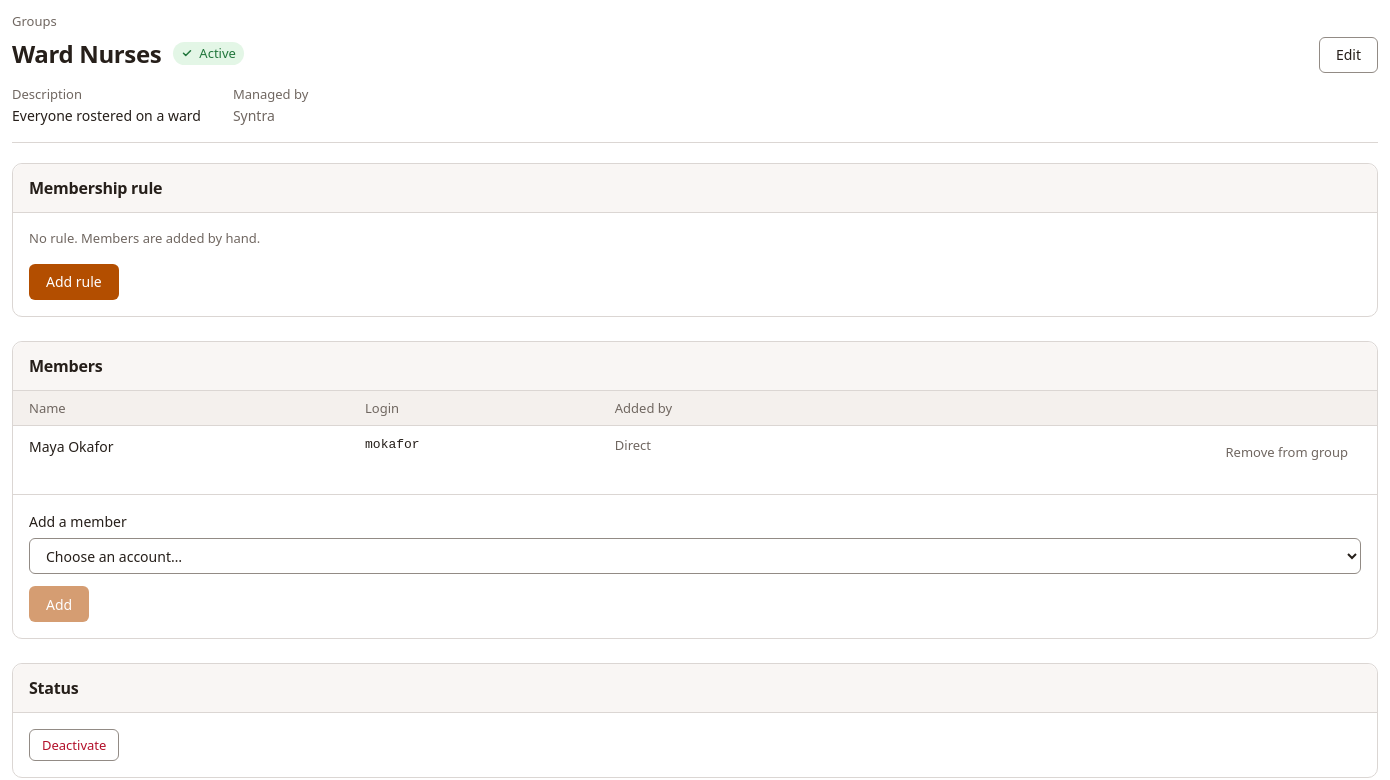
GroupDetailPage › status › says what deactivating the group does to its members
This screenshot has width=1390, height=780.
Click the button "Deactivate": (74, 745) [29,729,119,761]
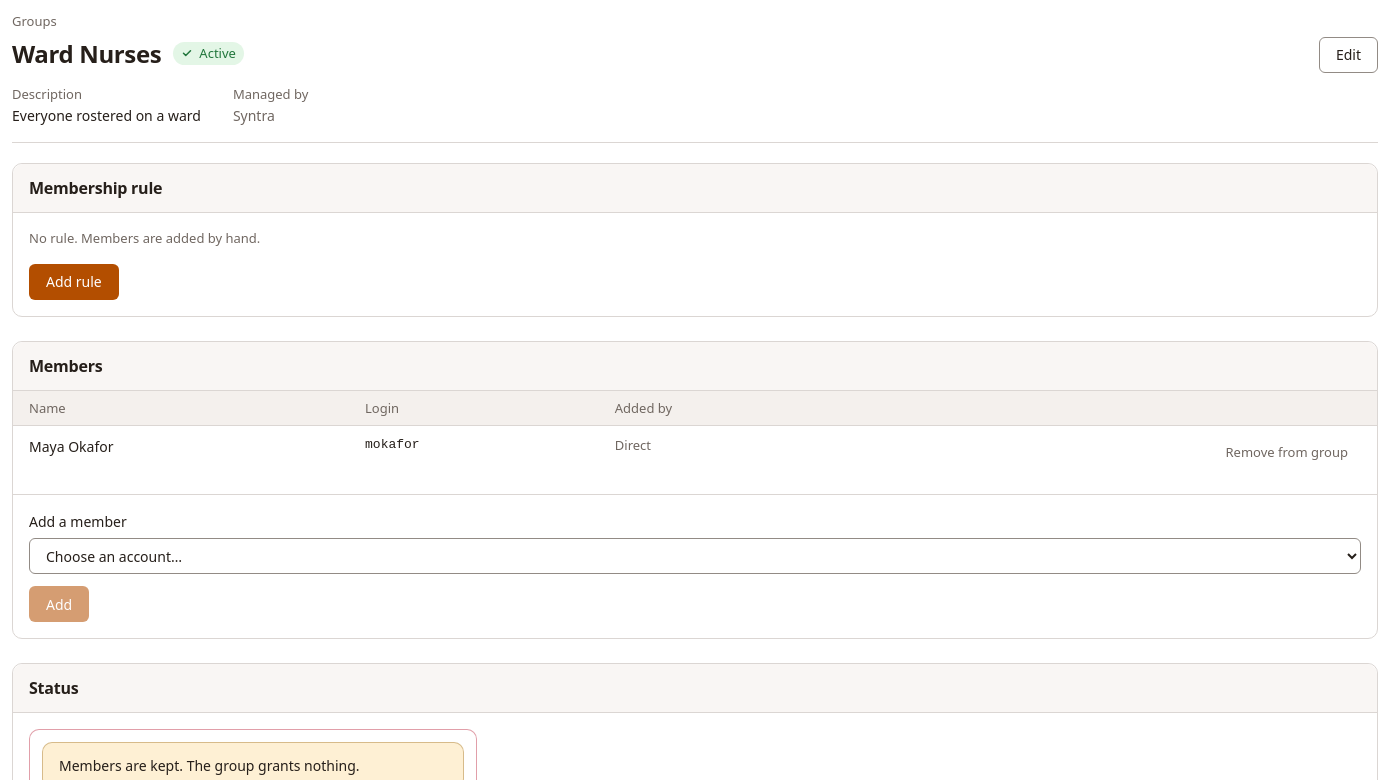
Result: the text "Members are kept. The group grants nothing." is shown at [59,756,360,775]
